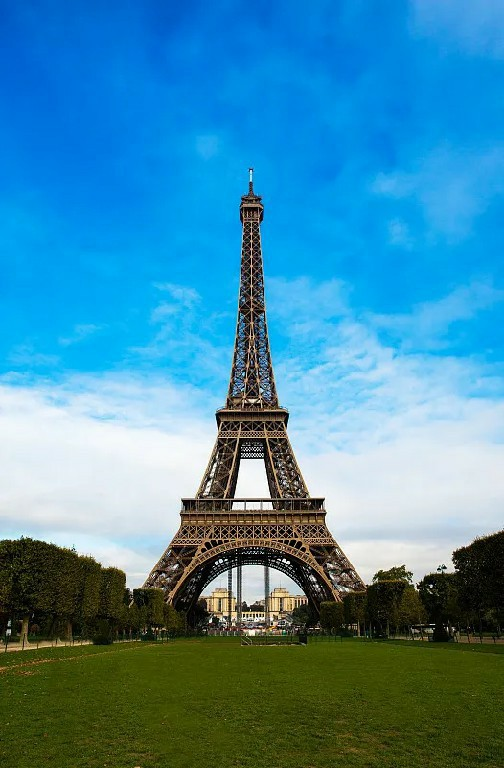Eiffel: (141, 169, 367, 620)
